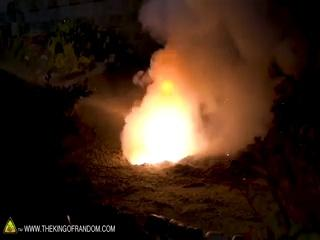Fire: (120, 87, 198, 168)
